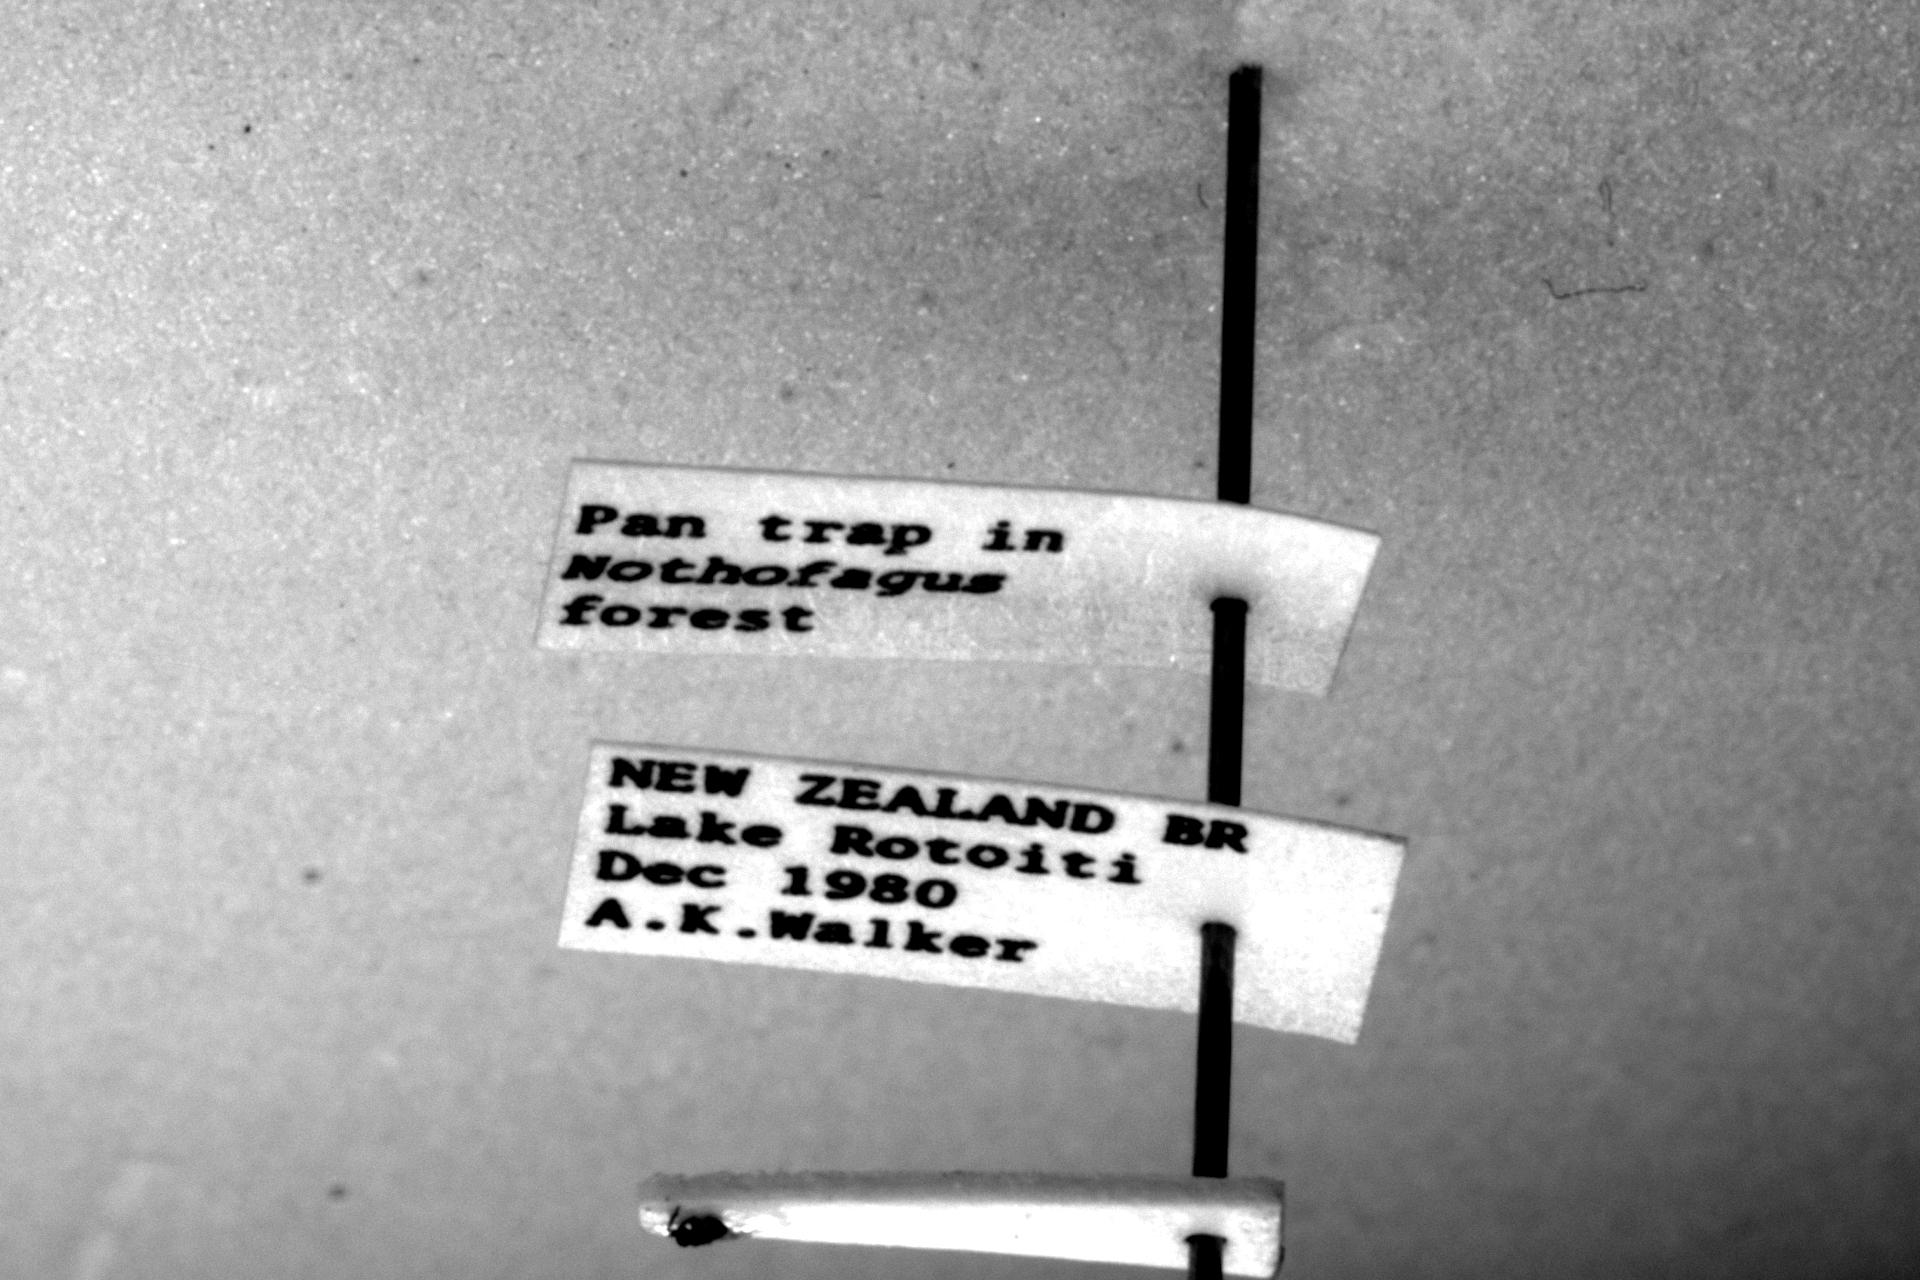typed_label: (559, 742, 1402, 1042), (536, 461, 1380, 694)
